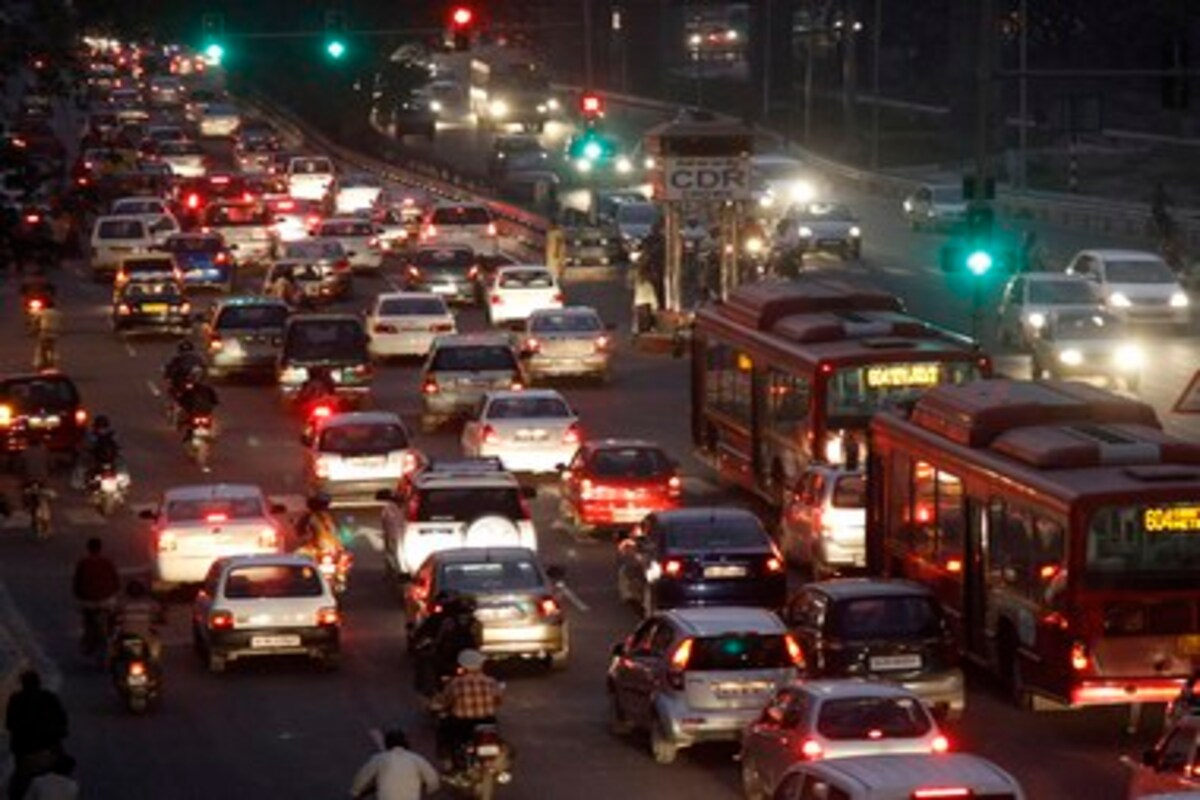bike: (441, 649, 511, 785), (123, 573, 181, 720), (388, 591, 488, 669), (178, 364, 230, 459), (87, 408, 134, 512), (164, 330, 201, 408)
bus: (868, 391, 1200, 712), (674, 286, 953, 493)
car: (611, 602, 795, 747), (792, 568, 968, 708), (188, 543, 354, 667), (610, 504, 793, 616), (397, 549, 581, 652), (748, 680, 947, 773), (370, 458, 546, 562), (136, 478, 292, 584), (543, 438, 696, 529), (294, 408, 431, 492), (409, 331, 541, 418), (363, 282, 490, 372), (455, 387, 587, 471), (1073, 245, 1199, 327), (266, 305, 379, 394), (1034, 304, 1158, 385), (1, 349, 84, 467), (109, 270, 215, 343), (525, 309, 627, 373), (401, 243, 487, 317), (777, 188, 869, 254), (487, 258, 575, 325), (1008, 265, 1099, 329), (418, 190, 498, 259), (87, 204, 163, 275), (211, 300, 278, 379)
